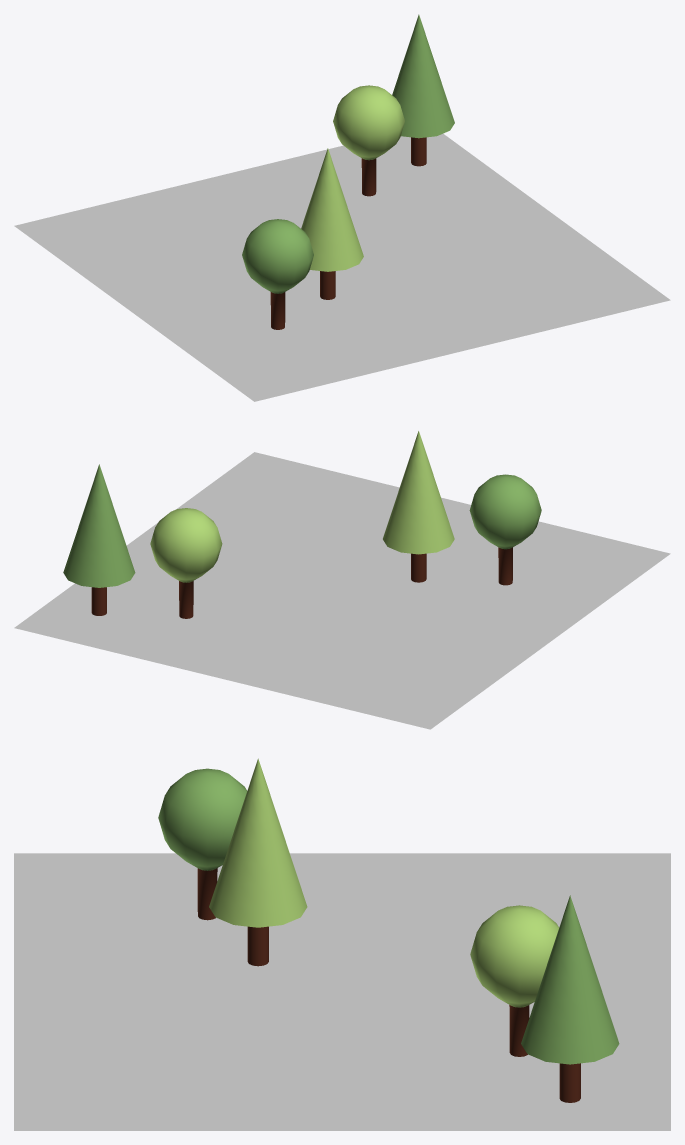
Rendered from level_1_tree.fbx.
The picture shows the model from 3 angles, top to bottom: view 1: azimuth 30°, elevation 25°; view 2: azimuth 150°, elevation 25°; view 3: azimuth 270°, elevation 25°; orthographic projection. The views are drawn at different scales.
Parts seen in each view (by area): view 1: Plane, Tree_1_2, Tree_1, Tree_2_2, Tree_2; view 2: Plane, Tree_1_2, Tree_1, Tree_2_2, Tree_2; view 3: Plane, Tree_1_2, Tree_1, Tree_2, Tree_2_2.
Part boxes in pixels (left/top/right/bottom): Plane: left=14, top=133, right=670, bottom=401; Tree_1_2: left=301, top=148, right=363, bottom=299; Tree_1: left=392, top=14, right=454, bottom=166; Tree_2_2: left=242, top=219, right=313, bottom=329; Tree_2: left=333, top=85, right=404, bottom=196; Plane: left=14, top=452, right=670, bottom=729; Tree_1_2: left=383, top=431, right=454, bottom=582; Tree_1: left=63, top=464, right=135, bottom=615; Tree_2_2: left=469, top=474, right=541, bottom=585; Tree_2: left=150, top=508, right=222, bottom=618; Plane: left=14, top=853, right=670, bottom=1130; Tree_1_2: left=209, top=758, right=307, bottom=966; Tree_1: left=521, top=895, right=619, bottom=1102; Tree_2: left=470, top=905, right=559, bottom=1056; Tree_2_2: left=158, top=768, right=247, bottom=920.
Size of the model in its own units: 20 by 6.85 by 20.
